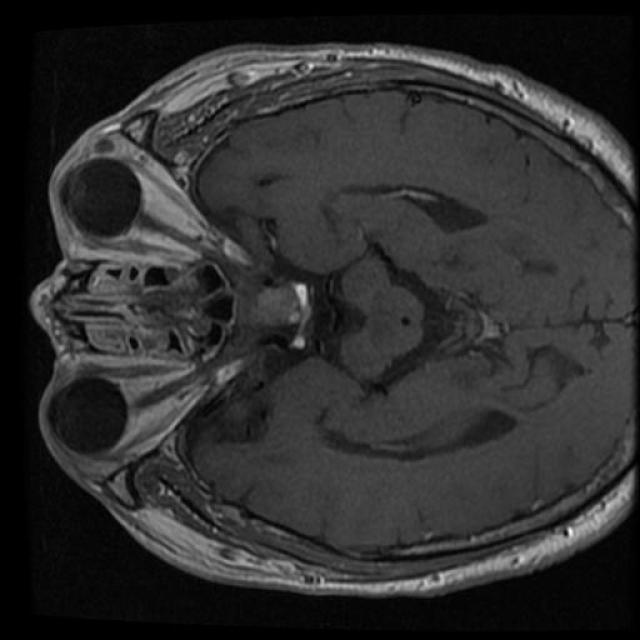Pituitary: (238, 278, 314, 349)
